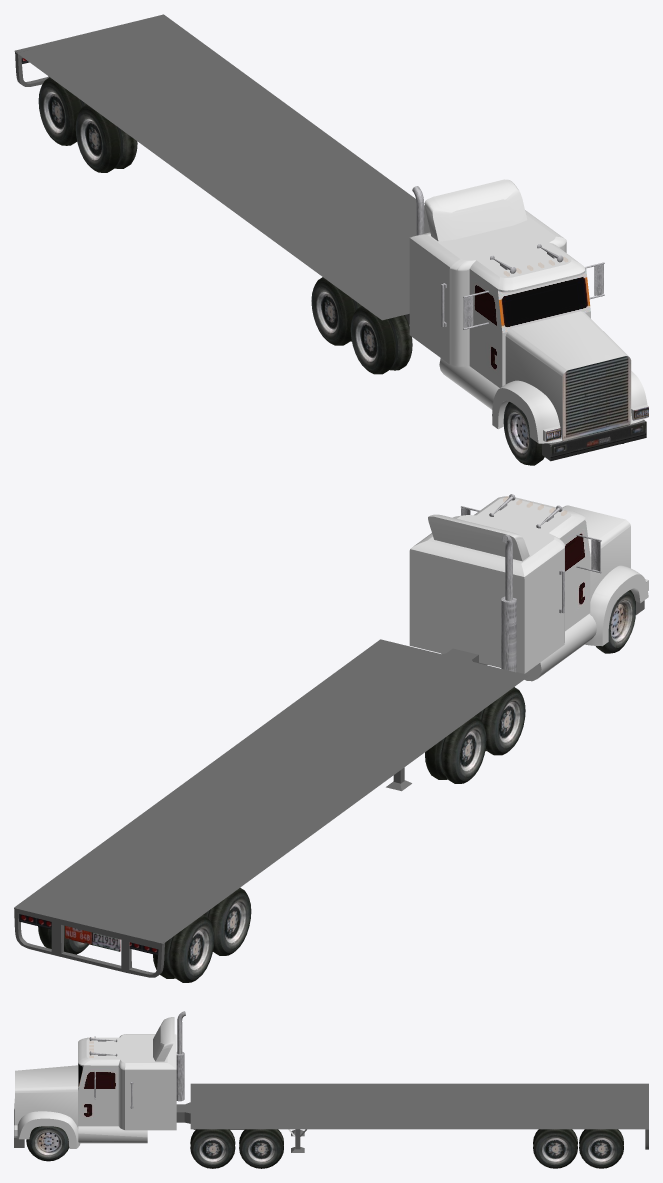
Rendered from truck.glb.
3 views of the same model, one above another, from view 1: azimuth 30°, elevation 25°; view 2: azimuth 150°, elevation 25°; view 3: azimuth 270°, elevation 25° (orthographic). The views are drawn at different scales.
Visible parts, largest first — view 1: Object_14, Object_23, Object_17, Object_6, Object_11, Object_10, Object_12, Object_19, Object_7, Object_18, Object_21; view 2: Object_14, Object_23, Object_17, Object_11, Object_12, Object_19, Object_21, Object_18, Object_20, Object_15; view 3: Object_14, Object_23, Object_17, Object_24, Object_13, Object_18, Object_21, Object_19, Object_20.
Boxes of the visible parts, x1,y1,x2,y2 form: Object_14: (14,14,646,460); Object_23: (409,179,648,443); Object_17: (38,77,412,374); Object_6: (562,356,631,441); Object_11: (409,239,449,363); Object_10: (498,269,590,332); Object_12: (469,270,502,387); Object_19: (412,186,604,329); Object_7: (550,422,646,460); Object_18: (503,402,623,465); Object_21: (439,358,499,409); Object_14: (14,600,644,977); Object_23: (409,496,648,673); Object_17: (38,687,525,982); Object_11: (524,549,564,673); Object_12: (560,521,590,631); Object_19: (461,494,601,613); Object_21: (441,614,596,681); Object_18: (596,590,635,653); Object_20: (501,596,516,672); Object_15: (65,926,120,951); Object_14: (14,1083,648,1152); Object_23: (14,1017,176,1148); Object_17: (190,1129,623,1168); Object_24: (125,1070,295,1136); Object_13: (78,1066,118,1126); Object_18: (26,1126,69,1161); Object_21: (78,1126,147,1143); Object_19: (89,1011,185,1108); Object_20: (176,1052,184,1101).
Bounding box in the file's own units: 88.7 × 112 × 523.
Materials: 19 (16 with a texture image).
